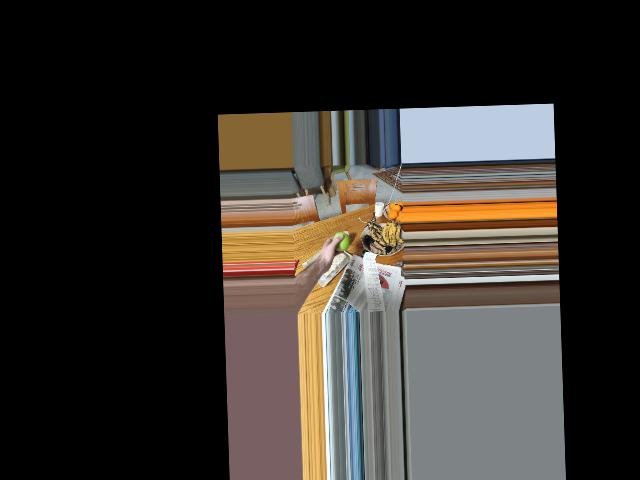apple: (329, 231, 349, 253)
